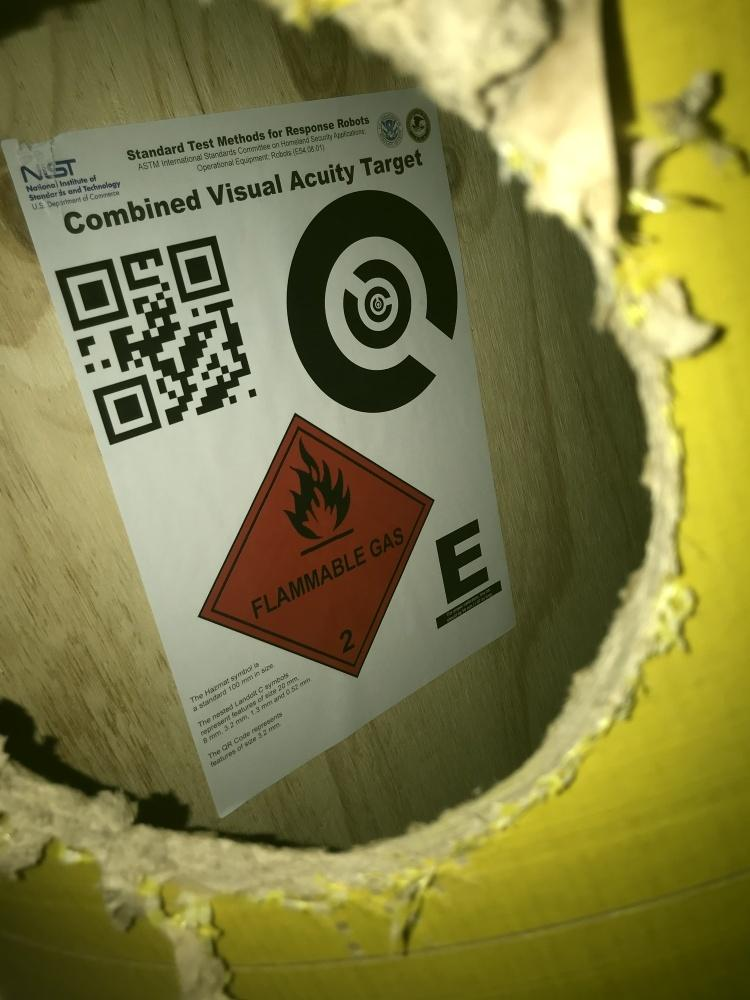flammable: (192, 408, 438, 679)
